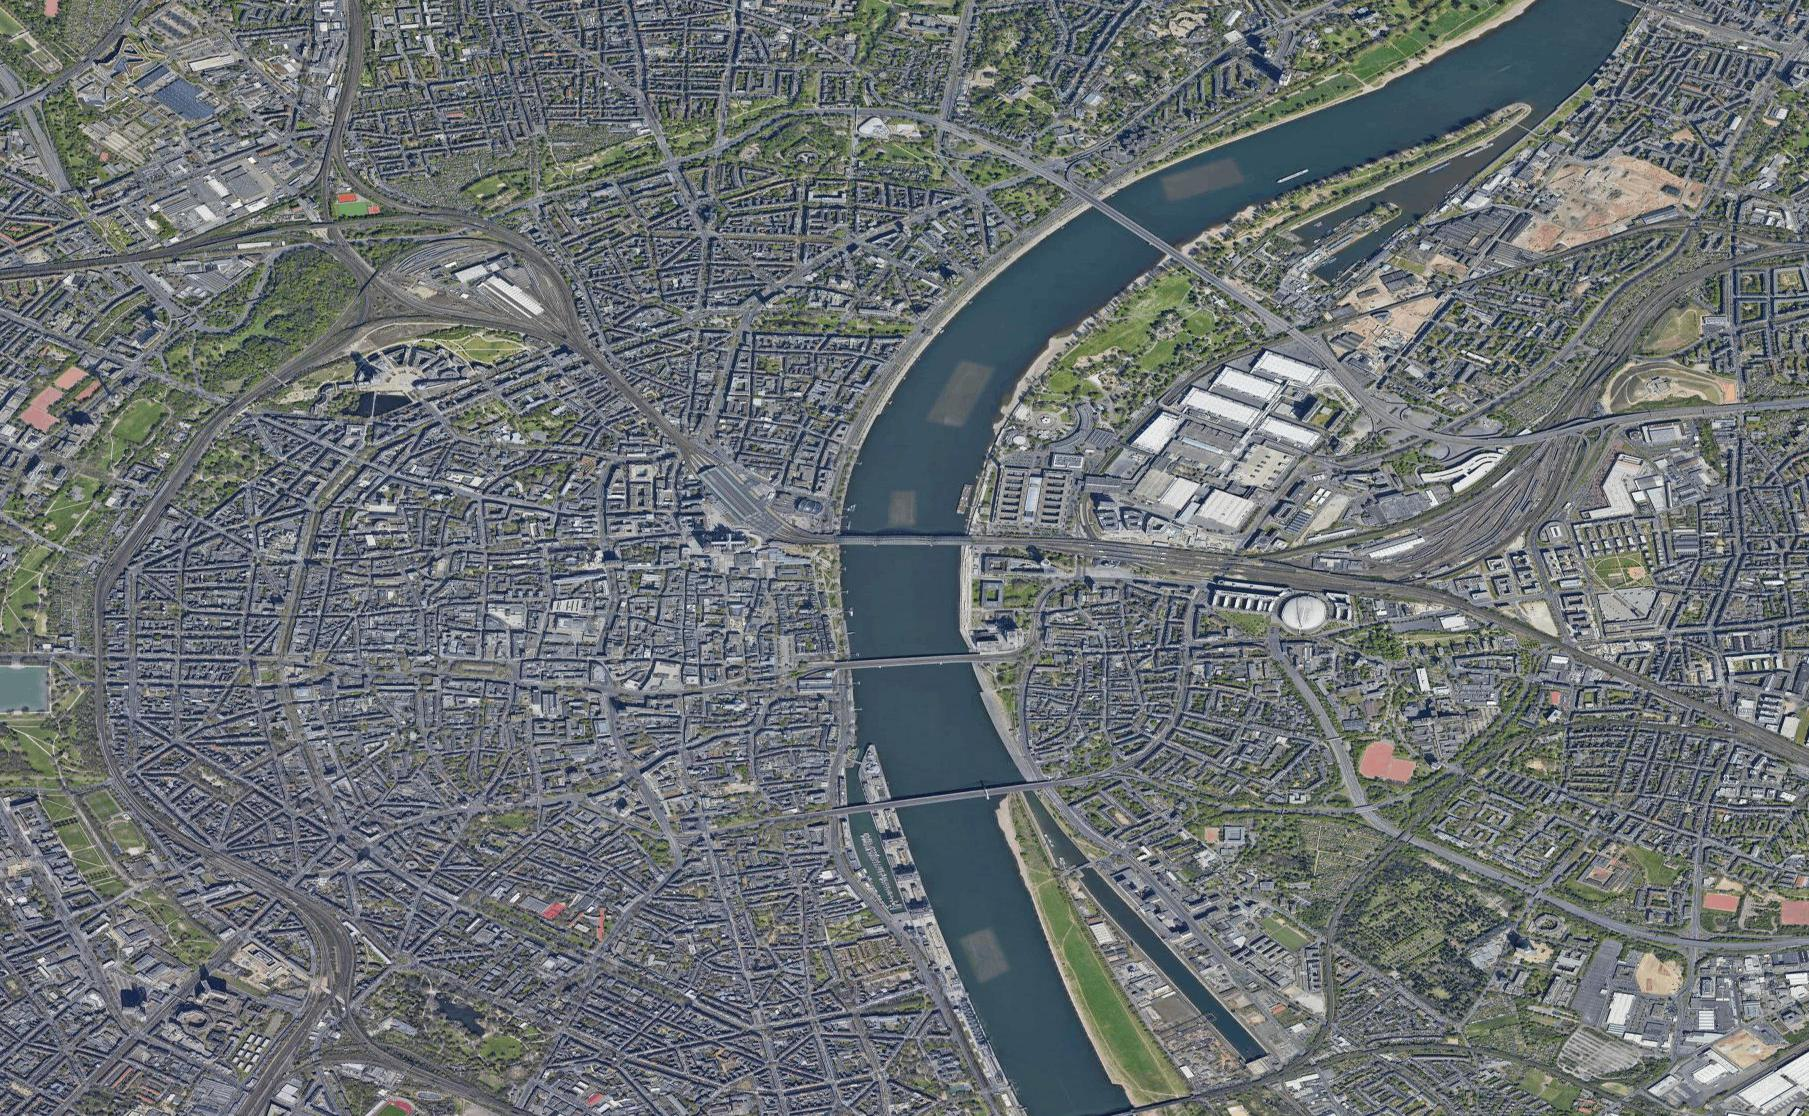bridge: (844, 772, 1044, 812), (1085, 191, 1178, 258), (839, 639, 985, 679), (833, 519, 979, 558)
industrial: (1111, 355, 1331, 555), (1660, 964, 1809, 1116)
train_station: (680, 446, 777, 541)
